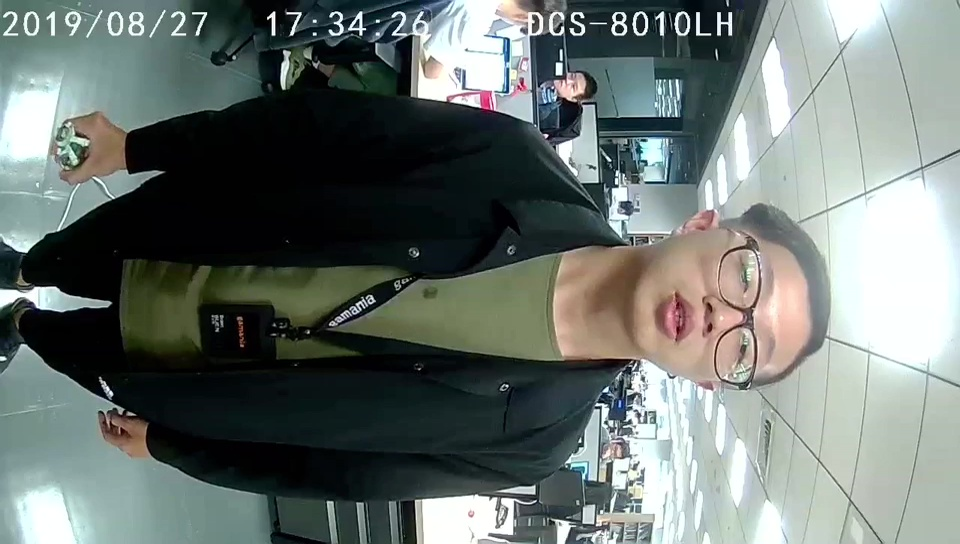buzz: (50, 118, 93, 170)
